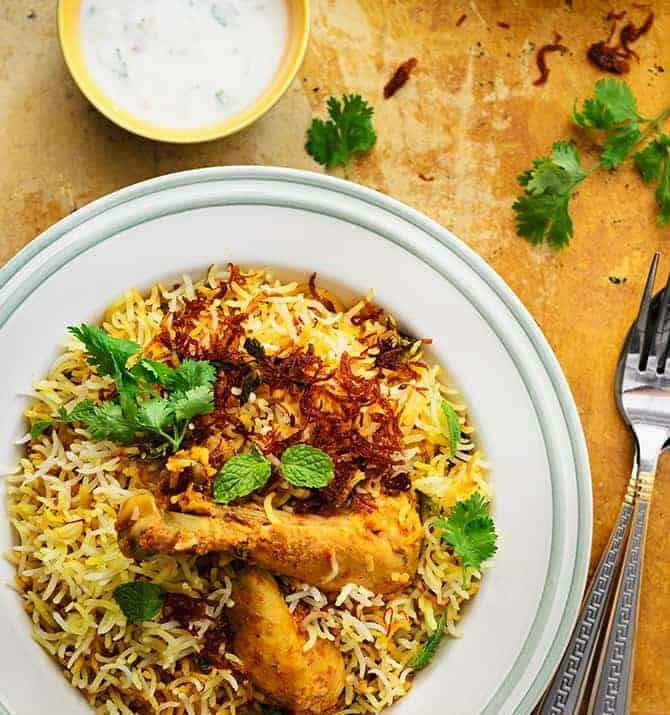Biryani: (11, 263, 492, 715)
